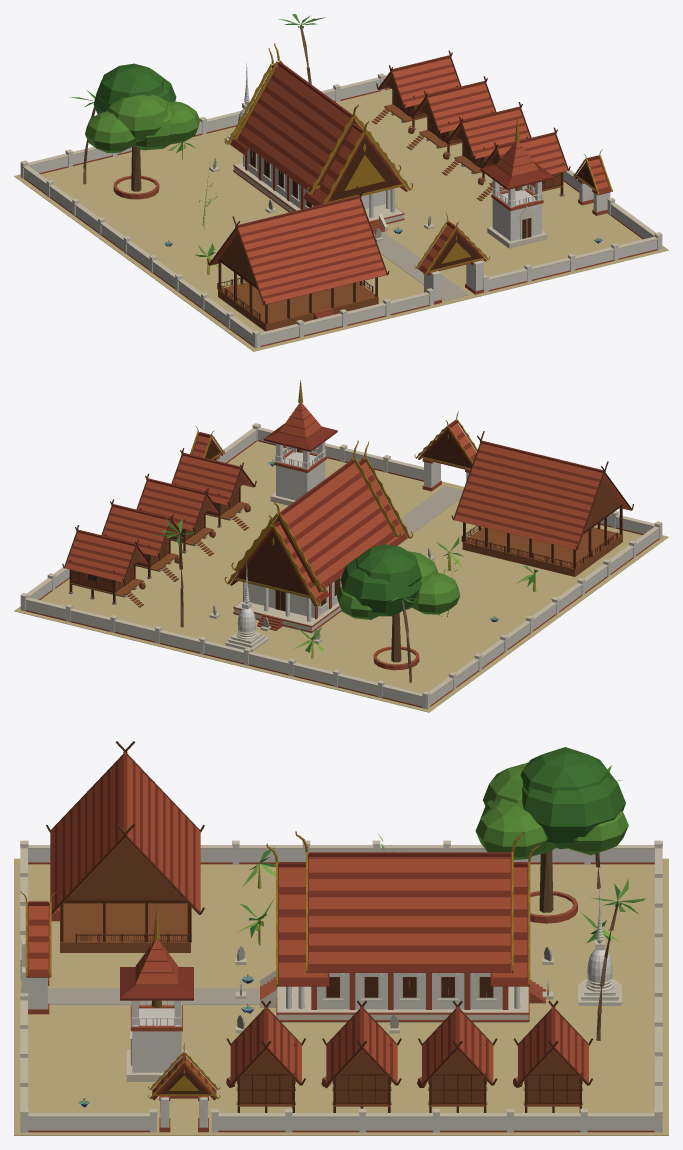
The model's file is temple_2.glb.
3 views of the same model, one above another, from view 1: azimuth 30°, elevation 25°; view 2: azimuth 150°, elevation 25°; view 3: azimuth 270°, elevation 25° (orthographic). The views are drawn at different scales.
Parts seen in each view (by area): view 1: body; view 2: body; view 3: body.
Part boxes in pixels (<box>): body: <box>14,14,668,351</box>; body: <box>14,380,668,712</box>; body: <box>14,741,668,1135</box>.
Size of the model in its own units: 47.9 by 13.46 by 47.9.
